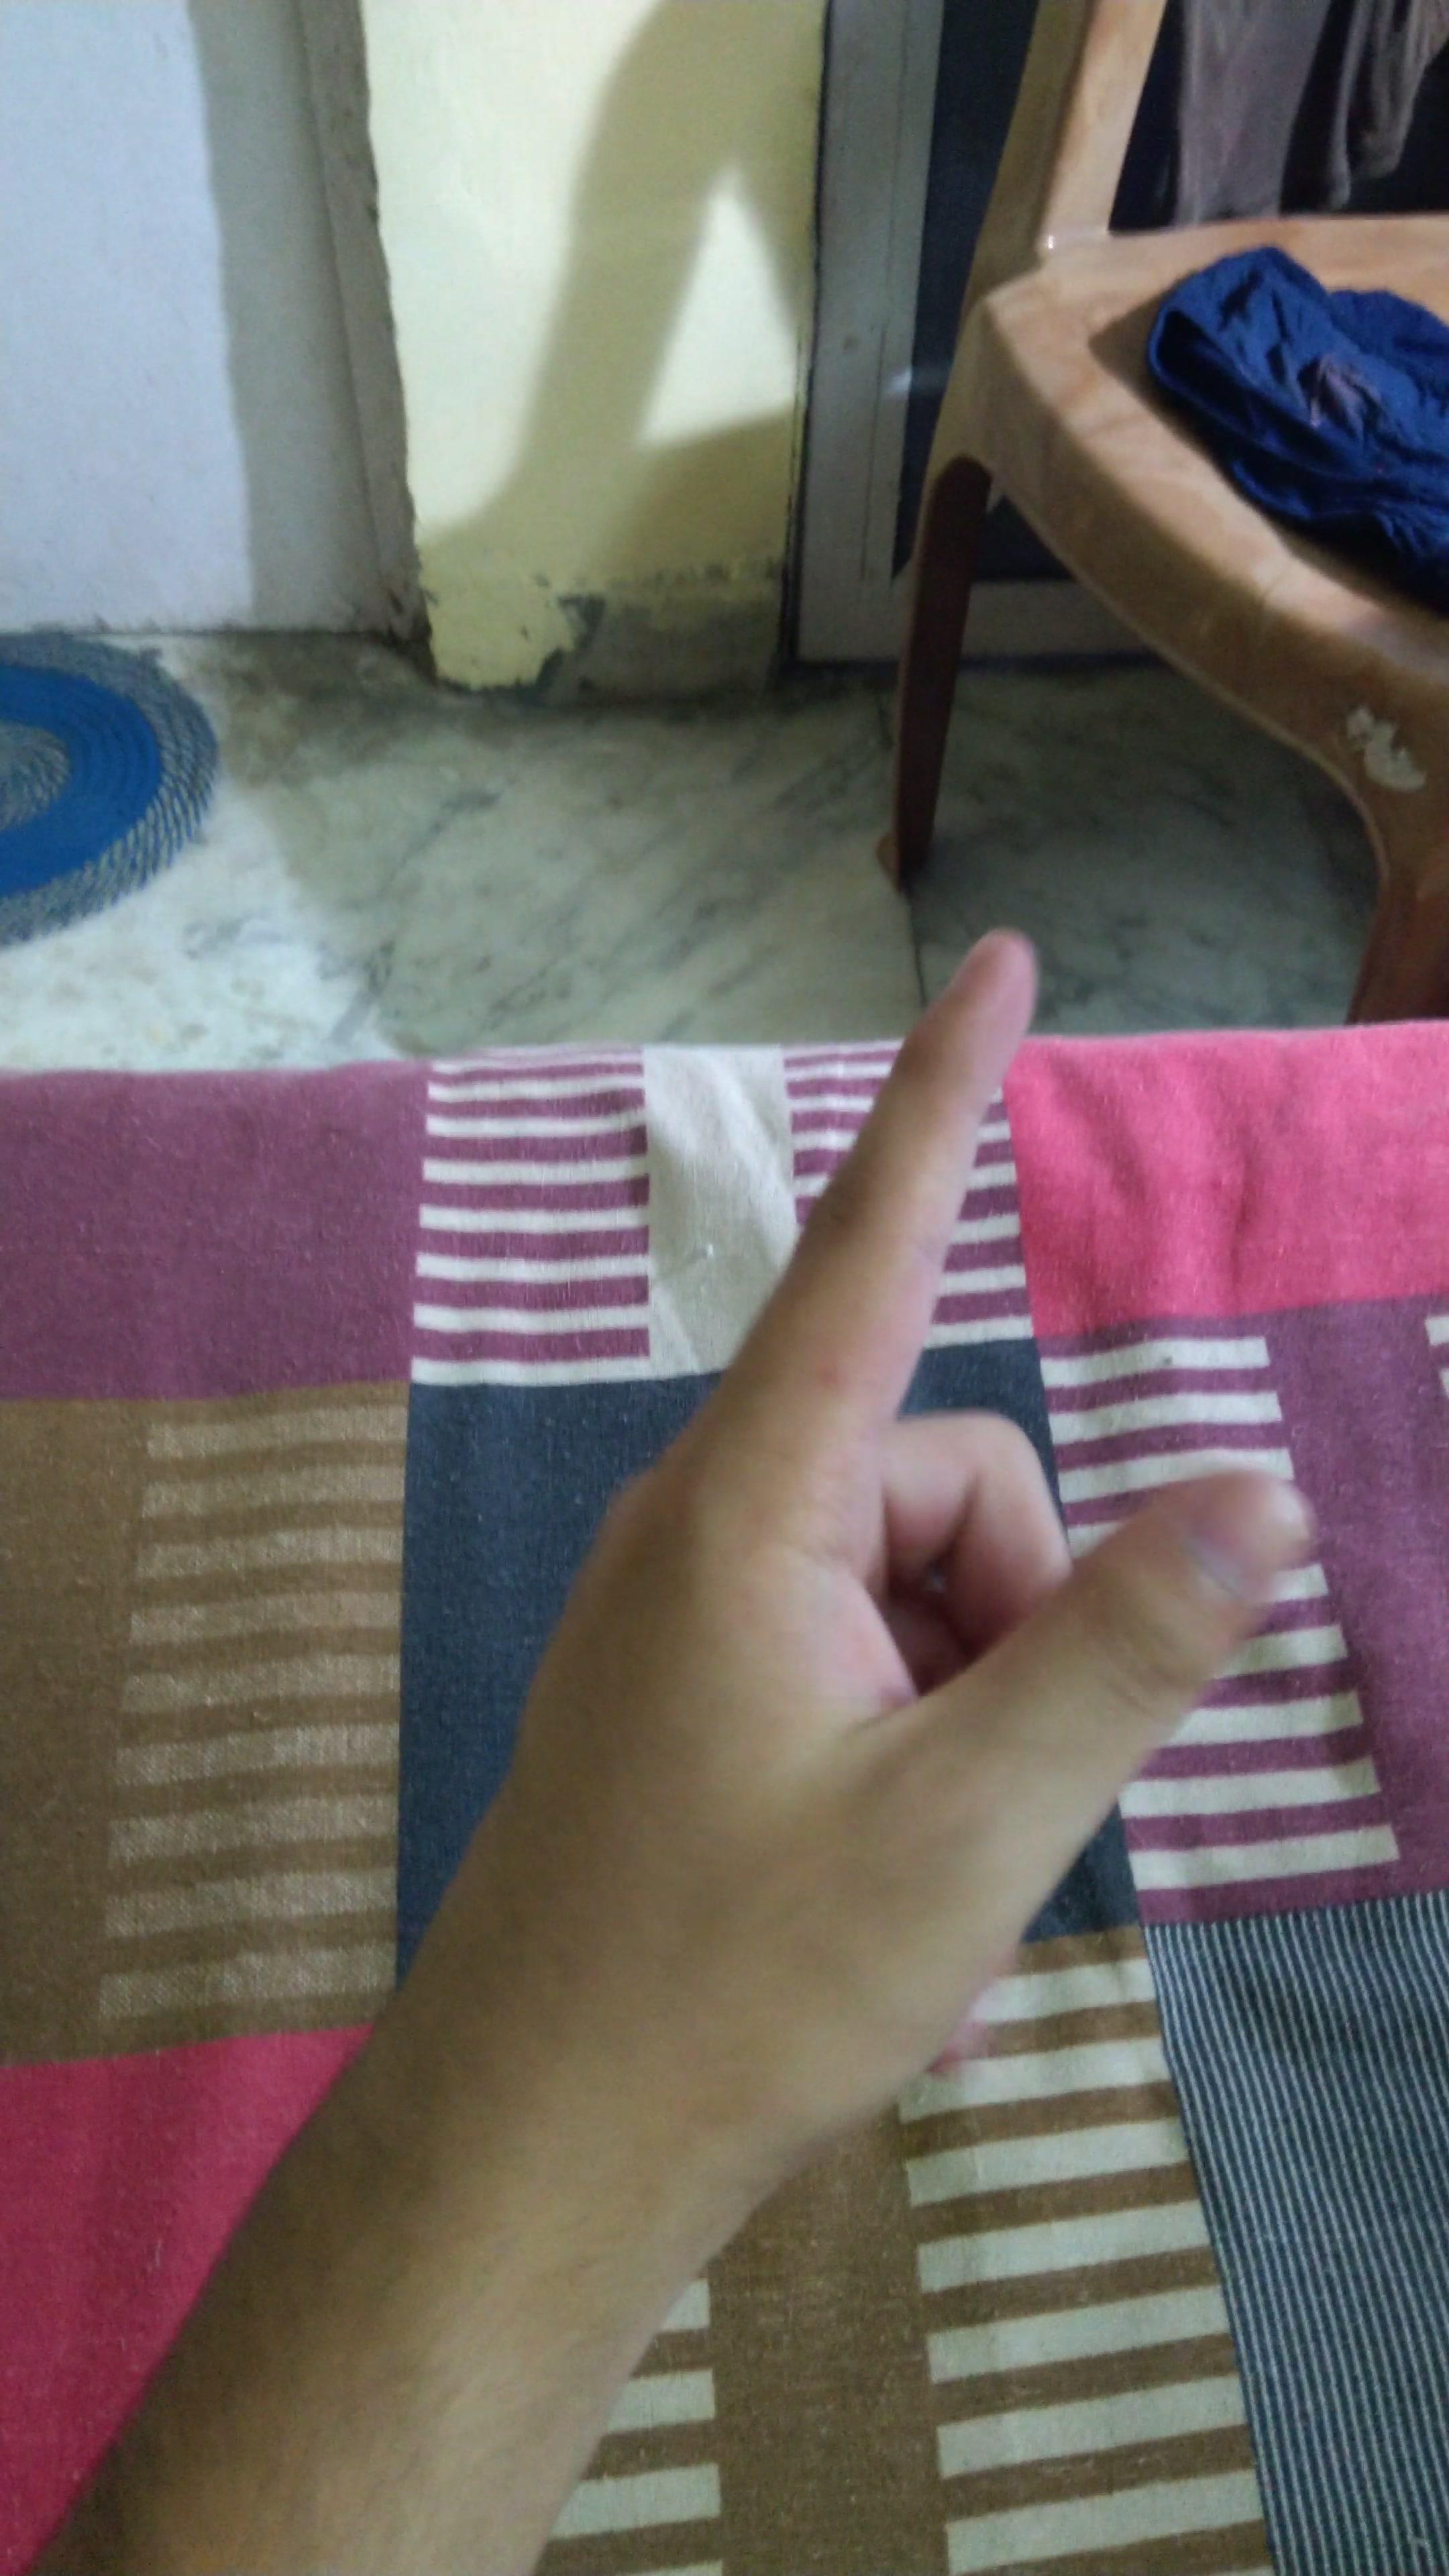hand: (423, 893, 1336, 2213)
